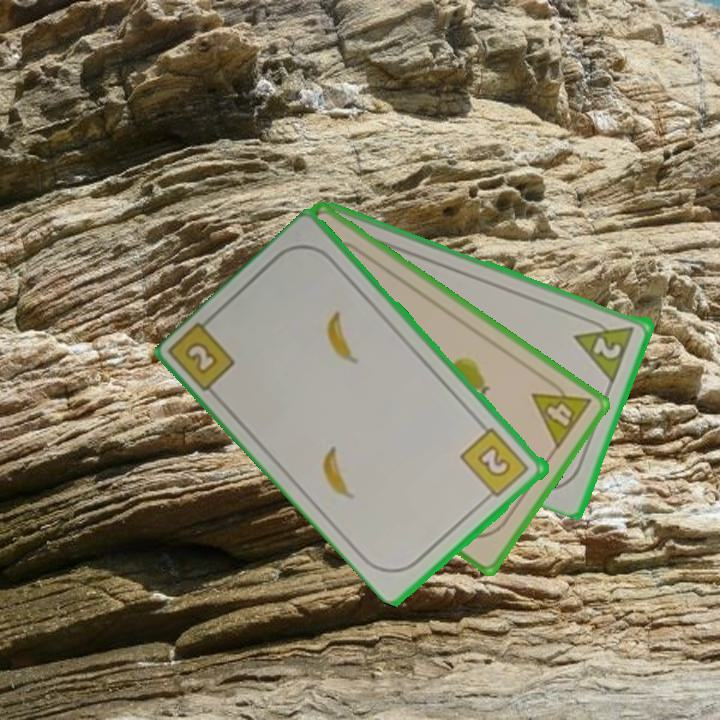2b: (457, 424, 533, 504), (181, 338, 222, 378)
2p: (571, 312, 638, 383)
4p: (528, 372, 594, 452)
